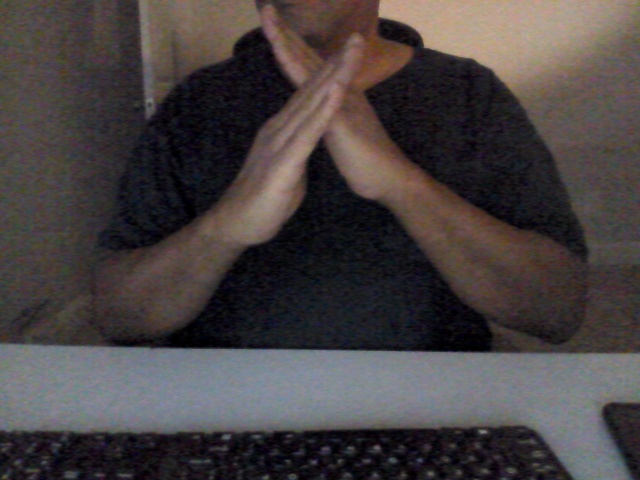quiet: (235, 3, 399, 248)
